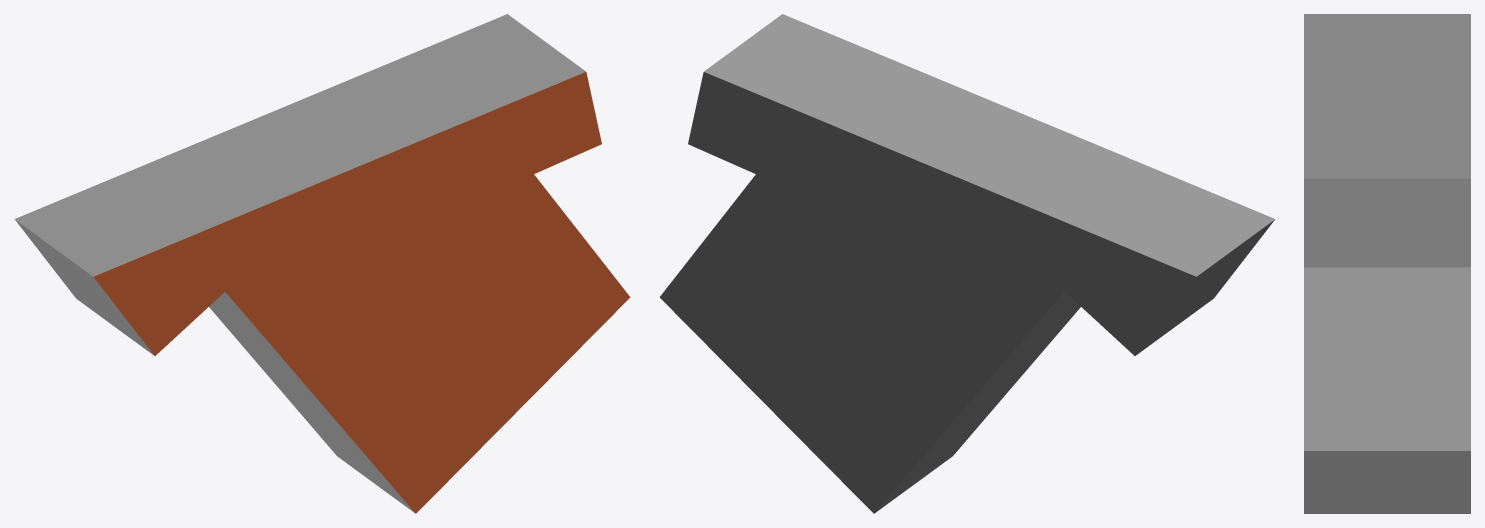
The model's file is construction_5709_assumed_A_Casa_h6m.obj.
3 renders of one model, left to right at view 1: azimuth 30°, elevation 25°; view 2: azimuth 150°, elevation 25°; view 3: azimuth 270°, elevation 25°, orthographic. The views are drawn at different scales.
Parts seen in each view (by area): view 1: construction_5709_assumed_A_Casa; view 2: construction_5709_assumed_A_Casa; view 3: construction_5709_assumed_A_Casa.
Part boxes in pixels (box(x1,y1,x2,y2)): construction_5709_assumed_A_Casa: box(14, 14, 630, 513); construction_5709_assumed_A_Casa: box(659, 14, 1275, 513); construction_5709_assumed_A_Casa: box(1304, 14, 1470, 513).
Size of the model in its own units: 23.58 by 16.81 by 6.
